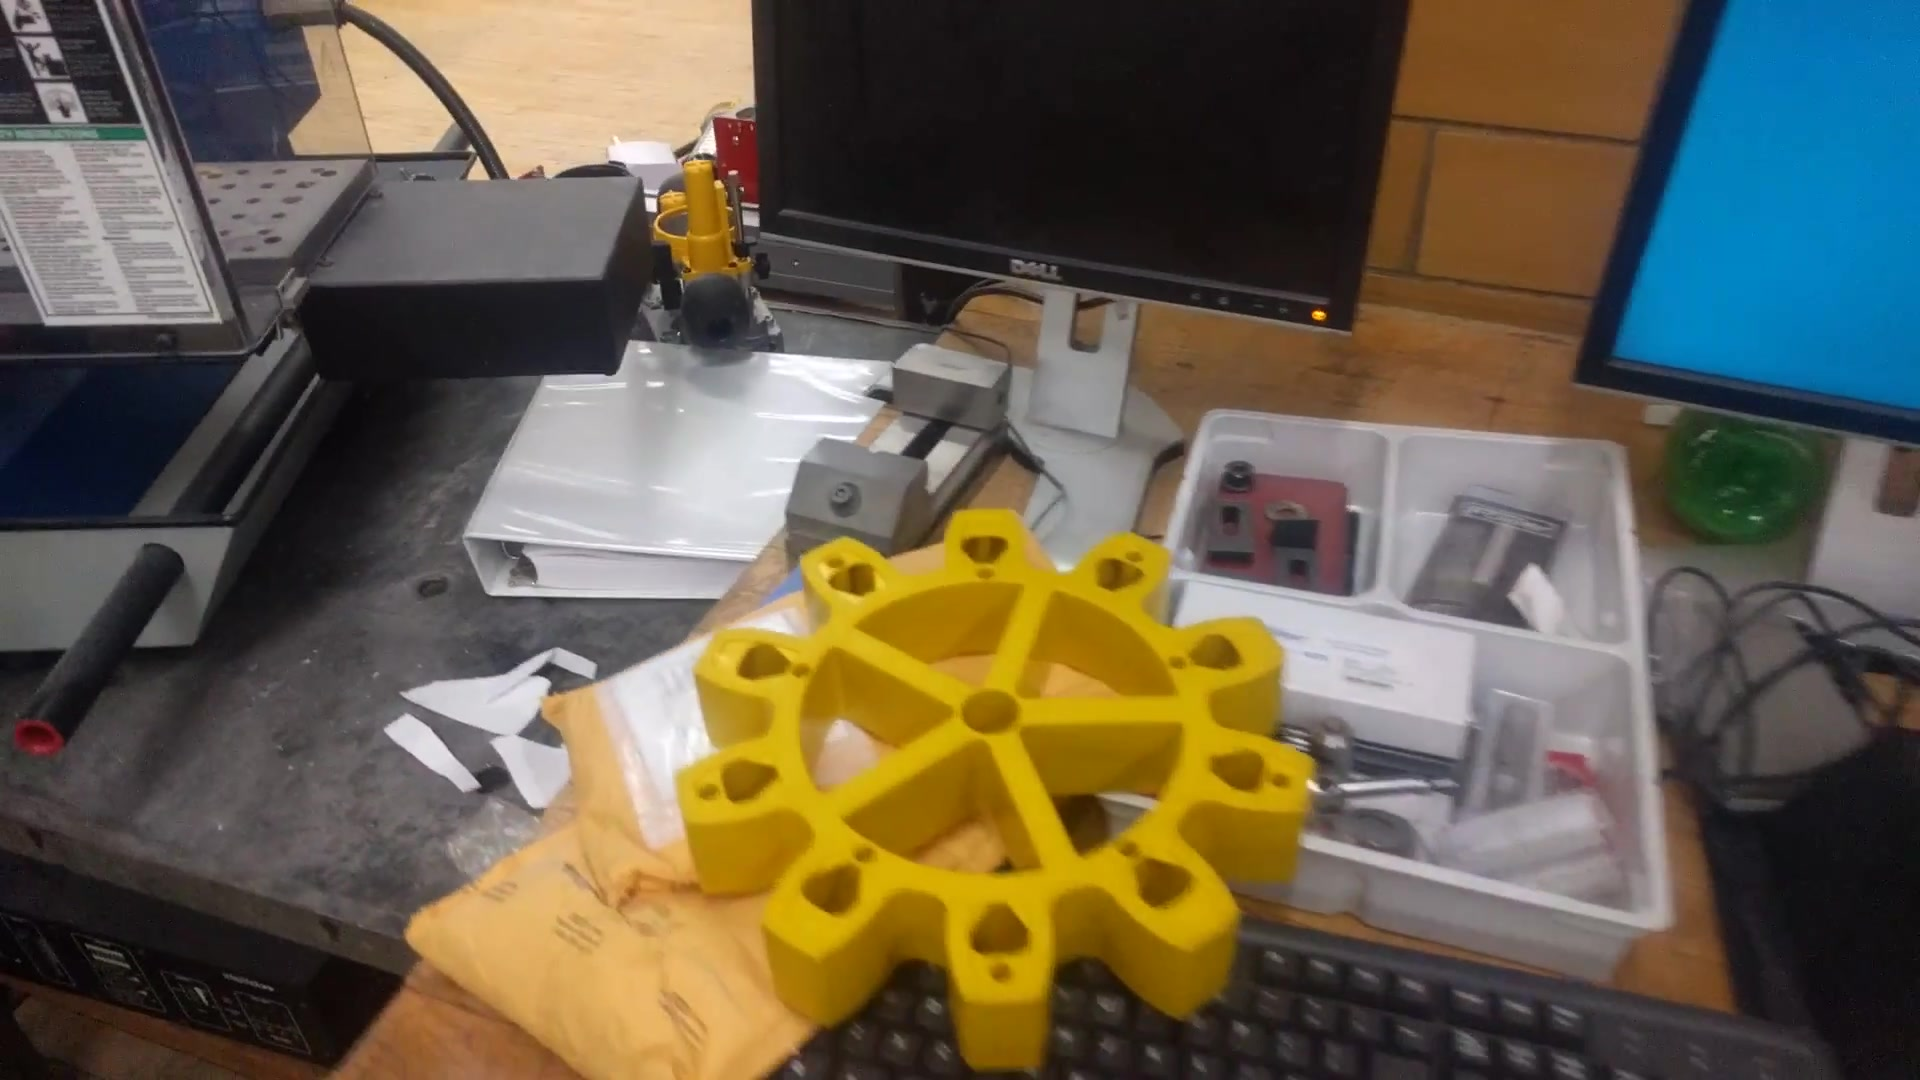gear: (669, 506, 1320, 1069)
